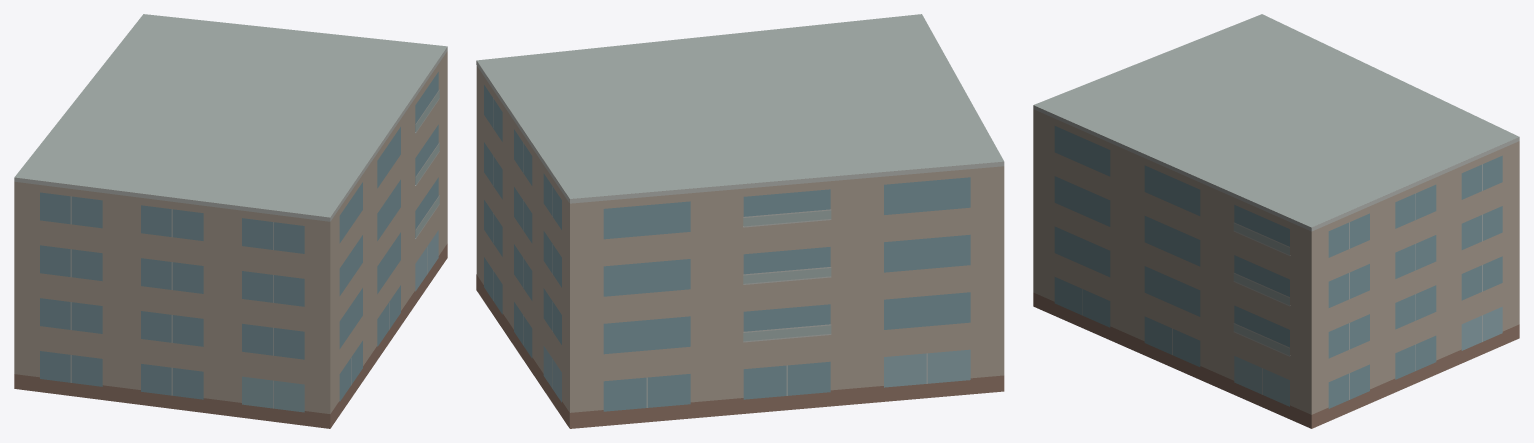
Rendered from survey-upis-32683863.glb.
3 views of the same model, side by side, from view 1: azimuth 30°, elevation 25°; view 2: azimuth 150°, elevation 25°; view 3: azimuth 270°, elevation 25° (orthographic). The views are drawn at different scales.
Visible parts, largest first — view 1: survey-upis-32683863.tmp; view 2: survey-upis-32683863.tmp; view 3: survey-upis-32683863.tmp.
Part boxes in pixels (x1,y1,x2,y2): survey-upis-32683863.tmp: [14, 14, 447, 428]; survey-upis-32683863.tmp: [476, 14, 1004, 428]; survey-upis-32683863.tmp: [1033, 14, 1519, 428].
Bounding box in the file's own units: 27.76 × 12.2 × 26.72.
